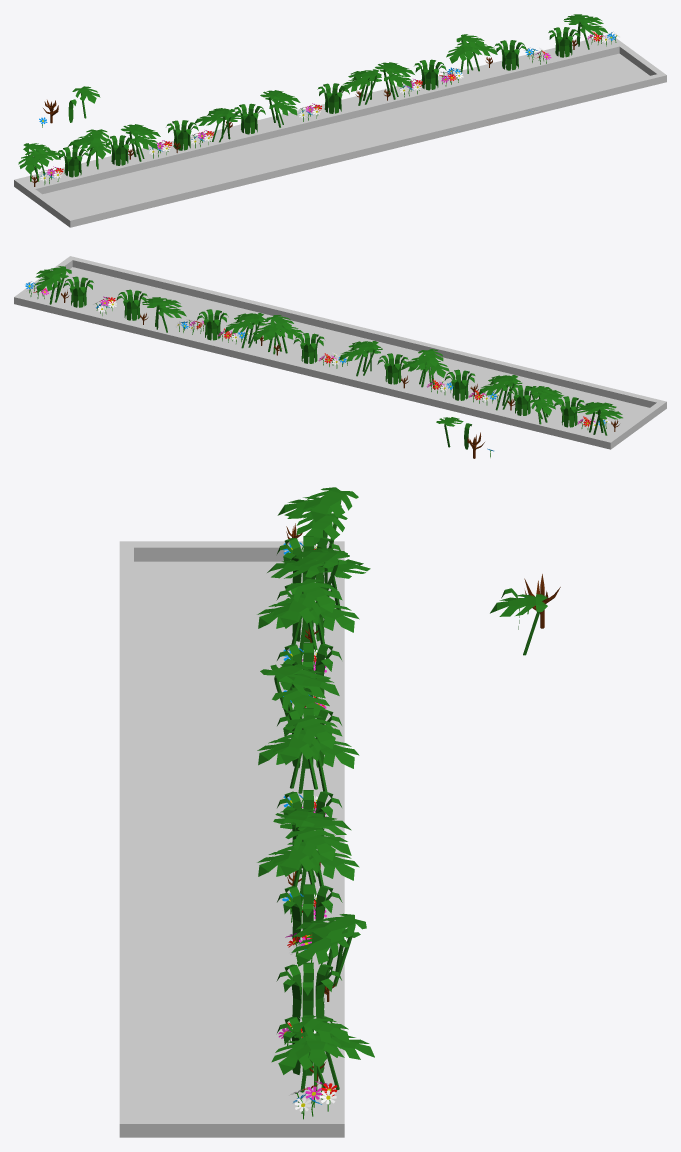
The model's file is SmallPool.fbx.
3 renders of one model, top to bottom at view 1: azimuth 30°, elevation 25°; view 2: azimuth 150°, elevation 25°; view 3: azimuth 270°, elevation 25°, orthographic. The views are drawn at different scales.
Visible parts, largest first — view 1: piscina, planta guarda sol.007, planta guarda sol.004, planta guarda sol.003, planta guarda sol.009, planta guarda sol.005, planta guarda sol.006, planta guarda sol.002, planta guarda sol.001, planta guarda sol.008, planta sao jorge.005, planta sao jorge.006 (+6 smaller); view 2: piscina, planta guarda sol.005, planta guarda sol.001, planta guarda sol.003, planta guarda sol.008, planta guarda sol.004, planta guarda sol.006, planta guarda sol.002, planta guarda sol.009, planta guarda sol.007, planta sao jorge.005, planta sao jorge.008 (+6 smaller); view 3: piscina, planta guarda sol.006, planta guarda sol.002, planta guarda sol.008, planta guarda sol.009, planta guarda sol.007, planta guarda sol.004, planta guarda sol.001, planta guarda sol.003, planta sao jorge.006, planta sao jorge.008, planta guarda sol.005 (+4 smaller).
Part boxes in pixels (<box>): piscina: <box>14,35,666,227</box>; planta guarda sol.007: <box>446,34,497,73</box>; planta guarda sol.004: <box>18,143,63,181</box>; planta guarda sol.003: <box>68,129,111,169</box>; planta guarda sol.009: <box>375,62,414,99</box>; planta guarda sol.005: <box>342,69,381,105</box>; planta guarda sol.006: <box>260,90,300,127</box>; planta guarda sol.002: <box>121,124,160,161</box>; planta guarda sol.001: <box>194,108,242,142</box>; planta guarda sol.008: <box>563,14,608,49</box>; planta sao jorge.005: <box>548,27,580,57</box>; planta sao jorge.006: <box>494,40,526,70</box>; piscina: <box>14,256,666,449</box>; planta guarda sol.005: <box>252,315,303,354</box>; planta guarda sol.001: <box>401,349,449,388</box>; planta guarda sol.003: <box>526,386,563,424</box>; planta guarda sol.008: <box>34,266,71,304</box>; planta guarda sol.004: <box>573,402,622,435</box>; planta guarda sol.006: <box>339,341,382,376</box>; planta guarda sol.002: <box>478,375,522,410</box>; planta guarda sol.009: <box>224,313,268,348</box>; planta guarda sol.007: <box>142,297,186,332</box>; planta sao jorge.005: <box>63,276,93,307</box>; planta sao jorge.008: <box>197,309,228,340</box>; piscina: <box>119,541,344,1137</box>; planta guarda sol.006: <box>257,715,359,793</box>; planta guarda sol.002: <box>257,579,359,657</box>; planta guarda sol.008: <box>271,1015,374,1092</box>; planta guarda sol.009: <box>257,827,359,904</box>; planta guarda sol.007: <box>291,913,366,986</box>; planta guarda sol.004: <box>277,487,358,549</box>; planta guarda sol.001: <box>260,664,339,722</box>; planta guarda sol.003: <box>267,548,370,610</box>; planta sao jorge.006: <box>276,962,341,1022</box>; planta sao jorge.008: <box>277,884,342,944</box>; planta guarda sol.005: <box>273,808,351,882</box>.
Bounding box in the file's own units: 9710 × 588 × 3093.
